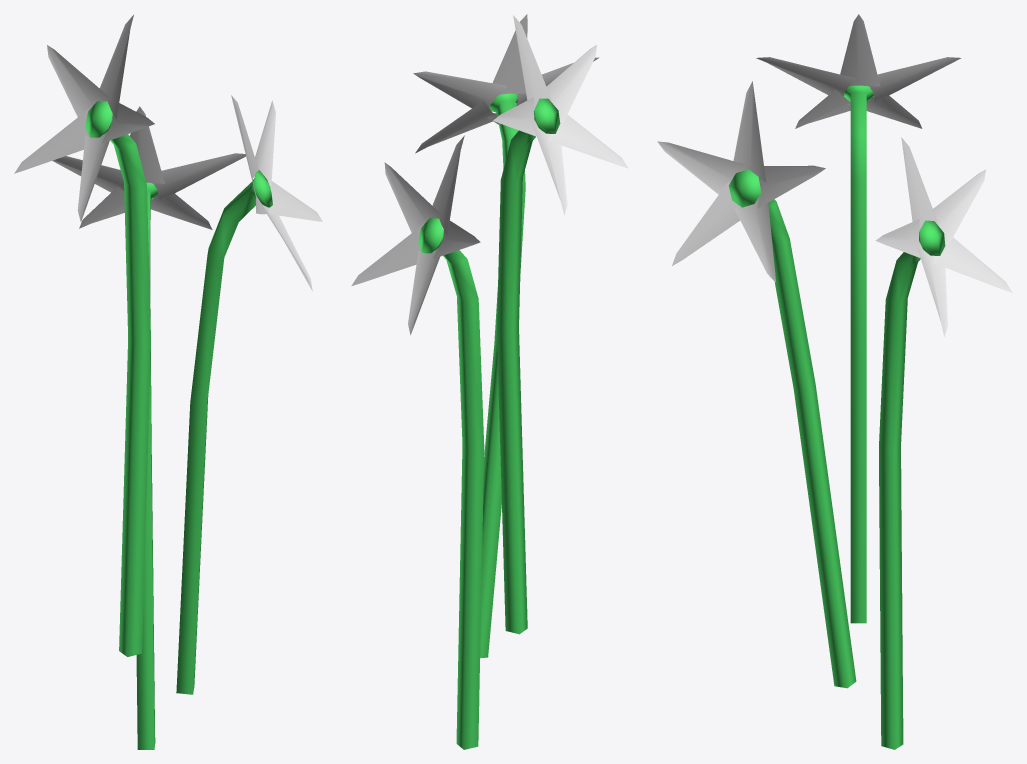
The model's file is Flower_B_1.fbx.
3 renders of one model, left to right at view 1: azimuth 30°, elevation 25°; view 2: azimuth 150°, elevation 25°; view 3: azimuth 270°, elevation 25°, orthographic. The views are drawn at different scales.
Parts seen in each view (by area): view 1: Flower_B_1_LOD0; view 2: Flower_B_1_LOD0; view 3: Flower_B_1_LOD0.
Boxes of the visible parts, x1,y1,x2,y2 form: Flower_B_1_LOD0: [14, 15, 322, 749]; Flower_B_1_LOD0: [351, 14, 628, 749]; Flower_B_1_LOD0: [657, 14, 1012, 749].
Size of what is drawn, in the model's own units: 0.3189 by 0.9881 by 0.444.
